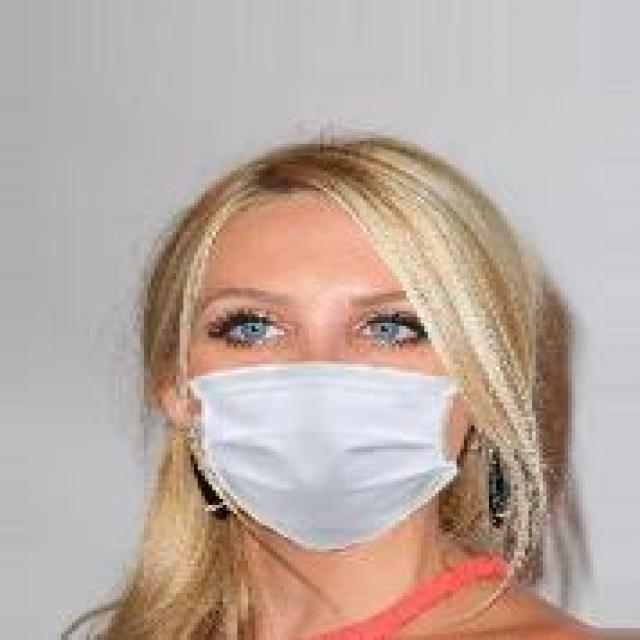mask: (43, 68, 568, 546)
